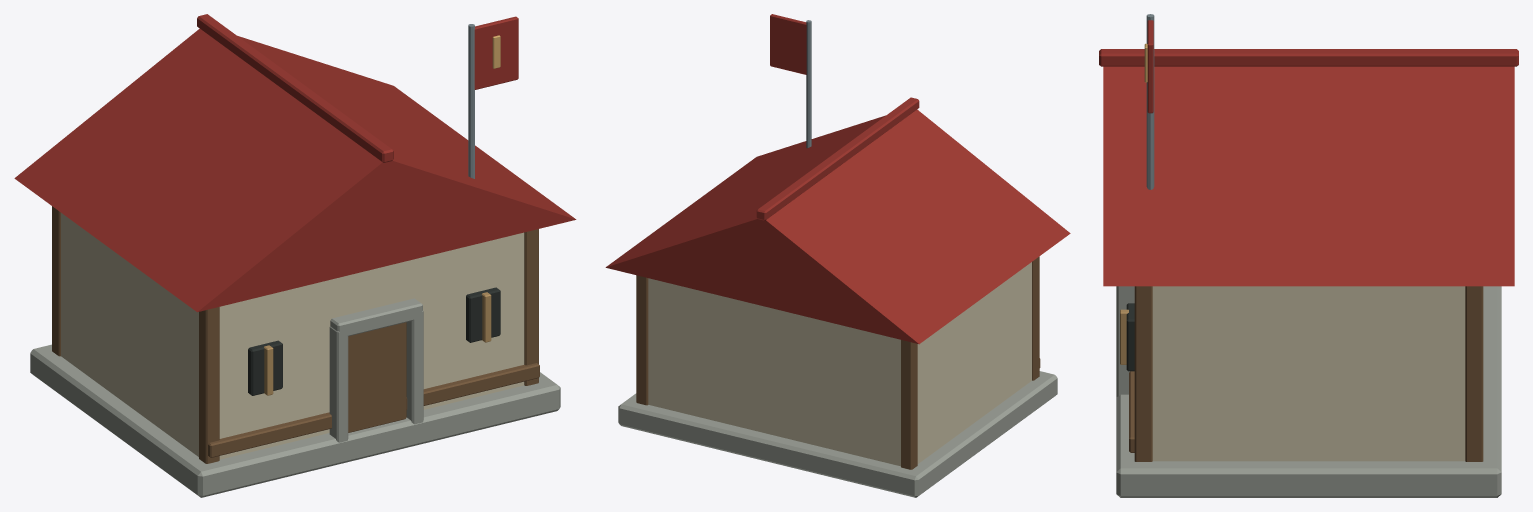
The model's file is enemy.glb.
The picture shows the model from 3 angles, left to right: view 1: azimuth 30°, elevation 25°; view 2: azimuth 150°, elevation 25°; view 3: azimuth 270°, elevation 25°; orthographic projection. The views are drawn at different scales.
Visible parts, largest first — view 1: Solid gabled roof.005, Plaster walls.005, Foundation.005, Door.005, Front crossbeam.010, Ridge cap.005, Corner timber.020, Hanging pennant.003, Door post.010, Corner timber.022, Lintel.005, Door post.011 (+4 smaller); view 2: Solid gabled roof.005, Plaster walls.005, Foundation.005, Ridge cap.005, Corner timber.021, Hanging pennant.003, Corner timber.023, Corner timber.020, Banner pole.003; view 3: Solid gabled roof.005, Plaster walls.005, Foundation.005, Ridge cap.005, Corner timber.022, Corner timber.023, Banner pole.003, Door post.011, Hanging pennant.003, Window dark recess.011, Front crossbeam.010.
Part boxes in pixels (bbox=[...]): Solid gabled roof.005: bbox=[14, 28, 576, 312]; Plaster walls.005: bbox=[61, 213, 524, 459]; Foundation.005: bbox=[30, 344, 560, 497]; Door.005: bbox=[348, 322, 406, 432]; Front crossbeam.010: bbox=[208, 363, 539, 457]; Ridge cap.005: bbox=[197, 14, 393, 162]; Corner timber.020: bbox=[199, 307, 219, 463]; Hanging pennant.003: bbox=[474, 16, 518, 89]; Door post.010: bbox=[329, 326, 348, 442]; Corner timber.022: bbox=[524, 229, 538, 385]; Lintel.005: bbox=[330, 298, 422, 336]; Door post.011: bbox=[406, 310, 423, 424]; Solid gabled roof.005: bbox=[605, 109, 1070, 344]; Plaster walls.005: bbox=[648, 262, 1031, 466]; Foundation.005: bbox=[618, 371, 1057, 497]; Ridge cap.005: bbox=[756, 97, 919, 220]; Corner timber.021: bbox=[901, 340, 917, 469]; Hanging pennant.003: bbox=[770, 14, 806, 74]; Corner timber.023: bbox=[636, 275, 648, 405]; Corner timber.020: bbox=[1032, 256, 1039, 380]; Banner pole.003: bbox=[806, 20, 811, 148]; Solid gabled roof.005: bbox=[1103, 66, 1514, 286]; Plaster walls.005: bbox=[1152, 286, 1465, 461]; Foundation.005: bbox=[1116, 286, 1501, 497]; Ridge cap.005: bbox=[1099, 49, 1518, 66]; Corner timber.022: bbox=[1134, 286, 1152, 461]; Corner timber.023: bbox=[1465, 286, 1483, 461]; Banner pole.003: bbox=[1146, 14, 1154, 189]; Door post.011: bbox=[1116, 286, 1134, 396]; Hanging pennant.003: bbox=[1147, 20, 1153, 113]; Window dark recess.011: bbox=[1126, 303, 1134, 371]; Front crossbeam.010: bbox=[1129, 371, 1134, 452].
Bounding box in the file's own units: 5.75 × 5.7 × 4.9.
